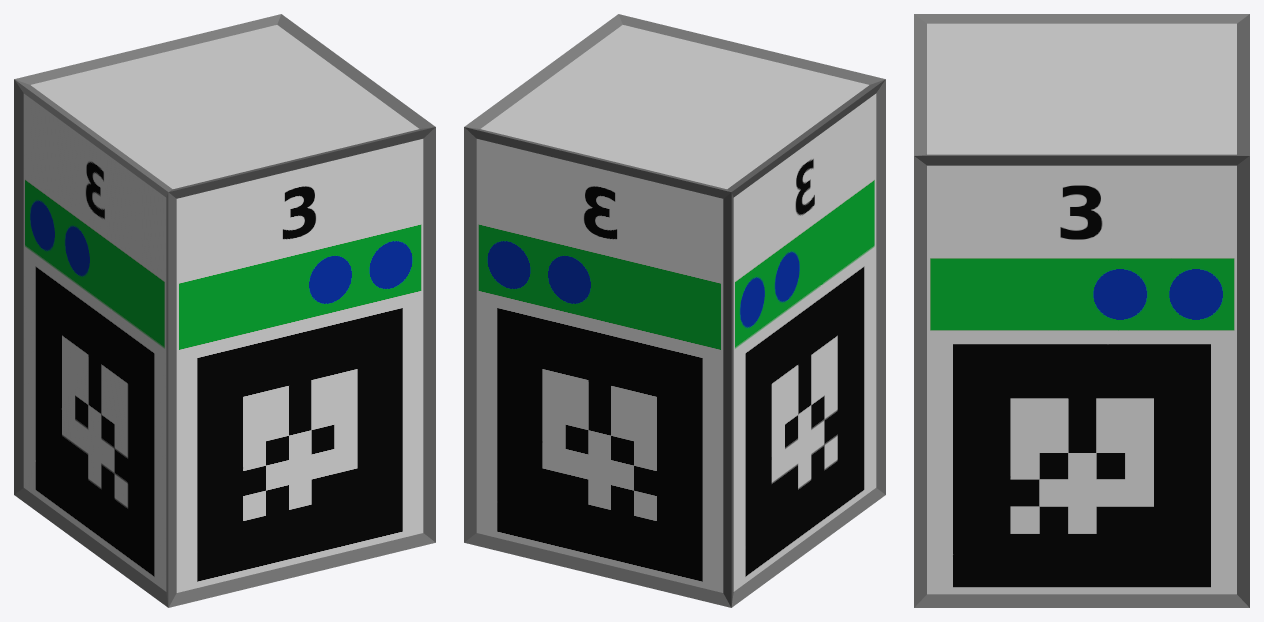
File: marker3.dae
3 renders of one model, left to right at view 1: azimuth 30°, elevation 25°; view 2: azimuth 150°, elevation 25°; view 3: azimuth 270°, elevation 25°, orthographic. The views are drawn at different scales.
Visible parts, largest first — view 1: Cube, Cube_001; view 2: Cube, Cube_001; view 3: Cube, Cube_001.
Boxes of the visible parts, <box> form: Cube: <box>23,25,423,592</box>; Cube_001: <box>14,14,435,607</box>; Cube: <box>476,25,876,592</box>; Cube_001: <box>464,14,885,607</box>; Cube: <box>927,23,1236,594</box>; Cube_001: <box>914,14,1249,607</box>.
Size of the model in its own units: 2.06 by 2.06 by 3.06.
3 materials, 1 textured.
